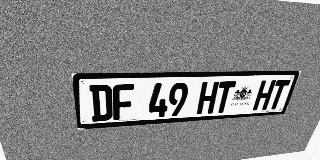4: (148, 83, 170, 118)
9: (167, 82, 189, 116)
D: (89, 84, 113, 122)
F: (113, 84, 134, 120)
H: (252, 80, 276, 111), (196, 82, 219, 114)
T: (266, 80, 291, 110), (213, 81, 236, 113)
